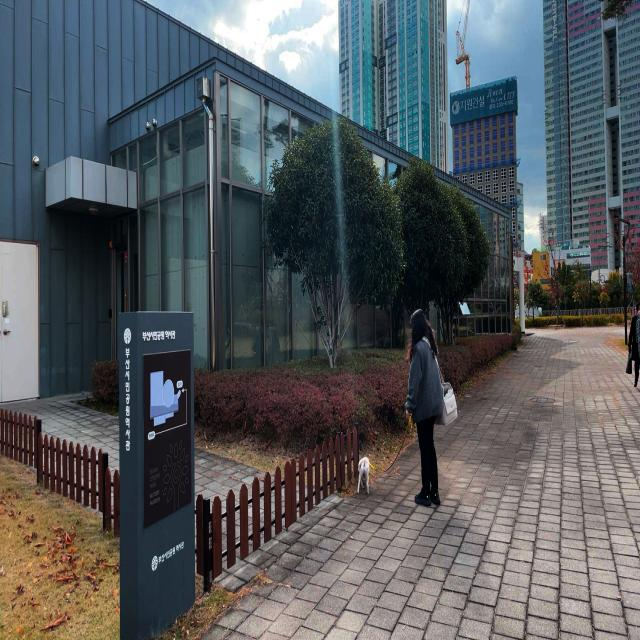Leashed_Dog: (357, 398, 430, 496)
